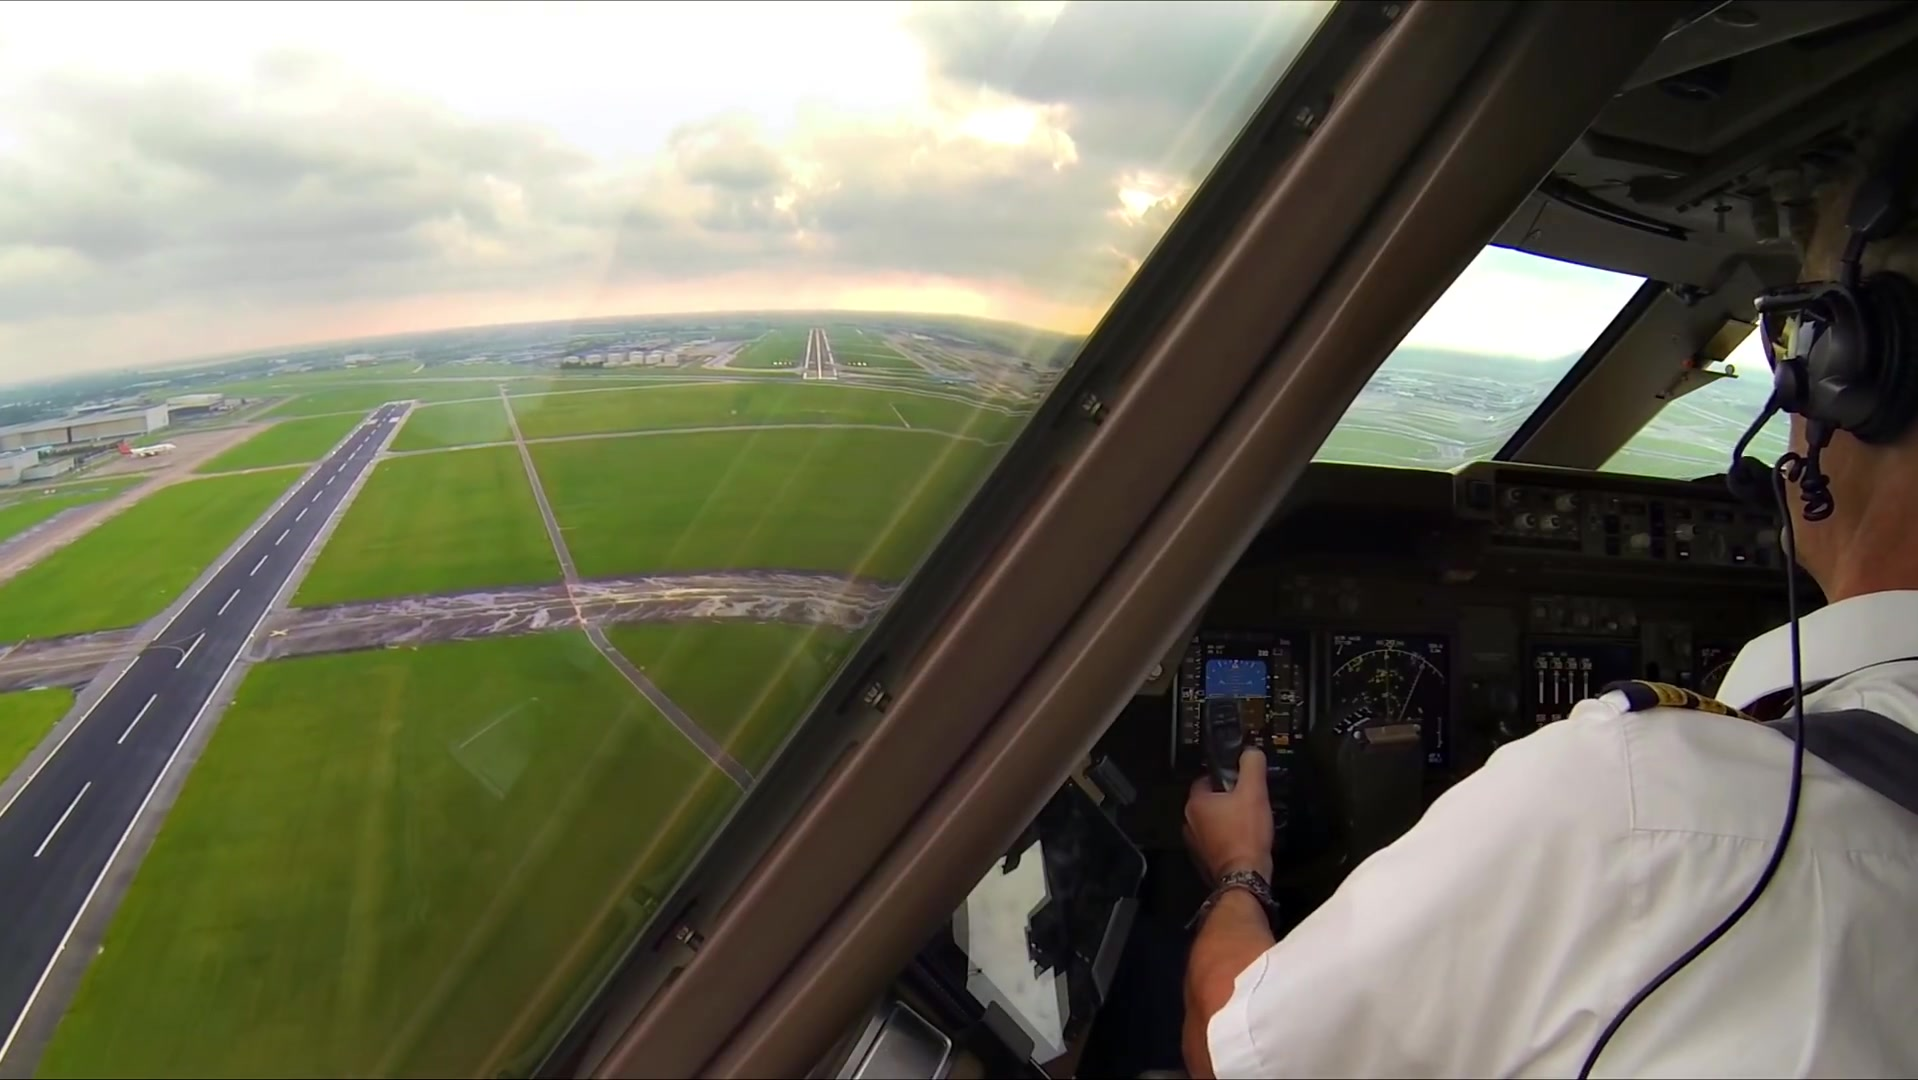runway: (798, 327, 836, 383)
